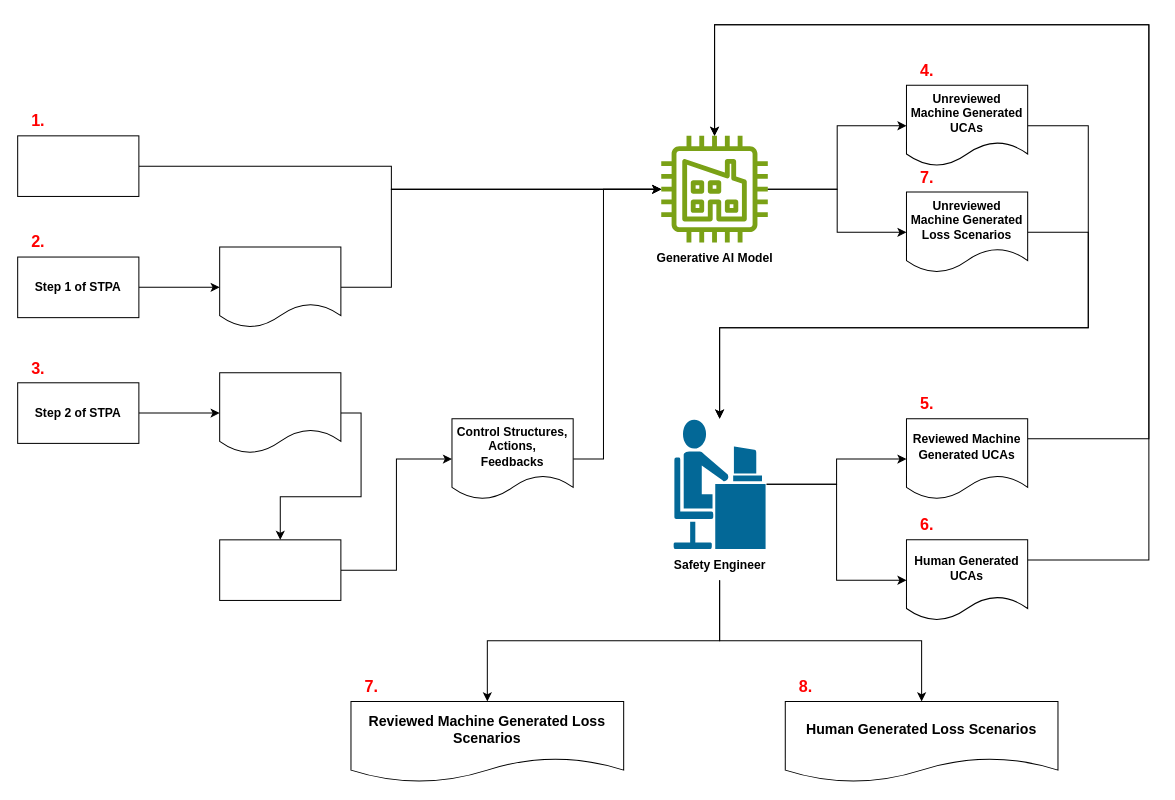
The diagram is 1175 pixels wide and 800 high, and some of its shapes have lost their labels. Here are the shapes that lost their labels. From the top down, the centre of each, then its label:
(78,165): Model of STPA
(280,287): Losses, Hazards, Constraints
(280,412): Control Structure Model
(280,569): Model Parser
